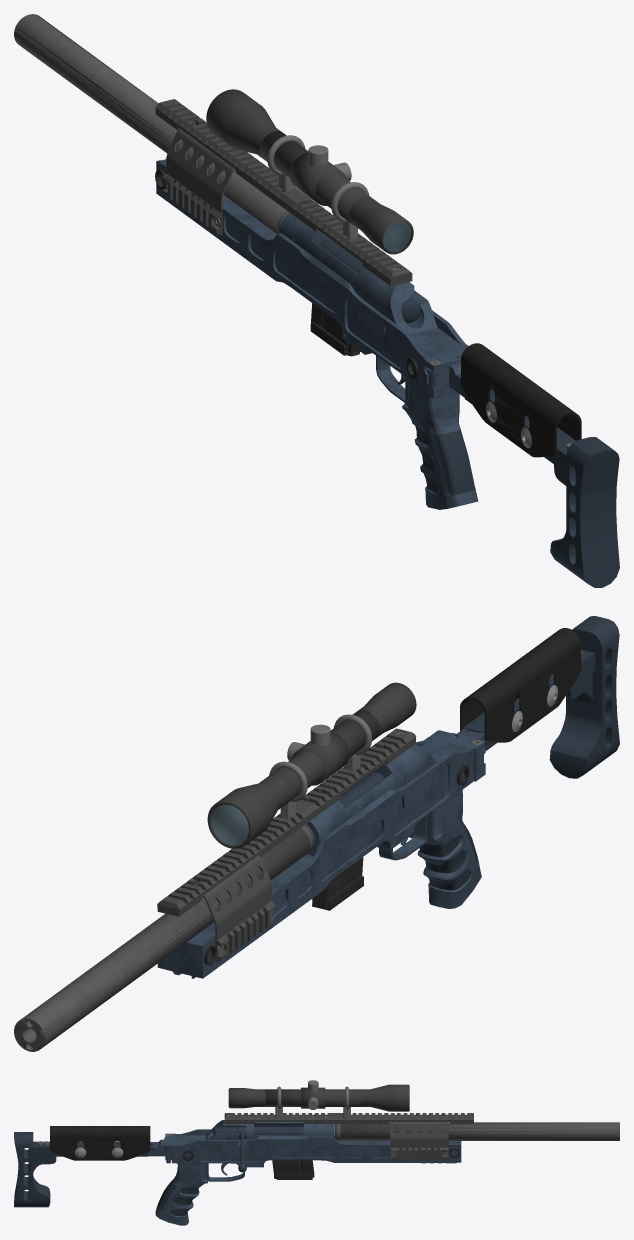
Rendered from w_awp.glb.
3 renders of one model, top to bottom at view 1: azimuth 30°, elevation 25°; view 2: azimuth 150°, elevation 25°; view 3: azimuth 270°, elevation 25°, orthographic. The views are drawn at different scales.
Parts seen in each view (by area): view 1: body, scope, mag, bolt; view 2: body, scope, mag, bolt; view 3: body, scope, bolt, mag.
Boxes of the visible parts, <box> form: body: <box>14,14,619,587</box>; scope: <box>206,89,413,254</box>; mag: <box>310,303,360,356</box>; bolt: <box>319,240,420,323</box>; body: <box>14,616,619,1051</box>; scope: <box>207,682,416,848</box>; mag: <box>312,857,363,910</box>; bolt: <box>338,772,384,807</box>; body: <box>14,1113,619,1225</box>; scope: <box>228,1080,409,1118</box>; bolt: <box>213,1126,303,1172</box>; mag: <box>272,1160,314,1179</box>.
Bounding box in the file's own units: 0.1054 × 0.3186 × 1.25.
Materials: 5 (2 with a texture image).
